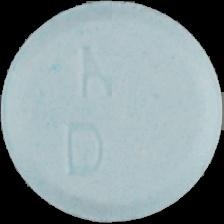51079-119: (0, 0, 224, 224)
